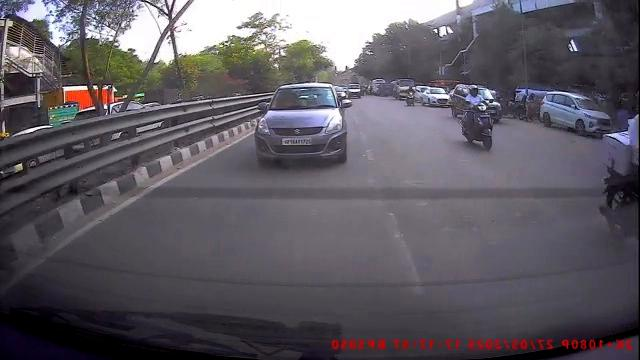motorcycle_with_helmet: (458, 83, 495, 152)
